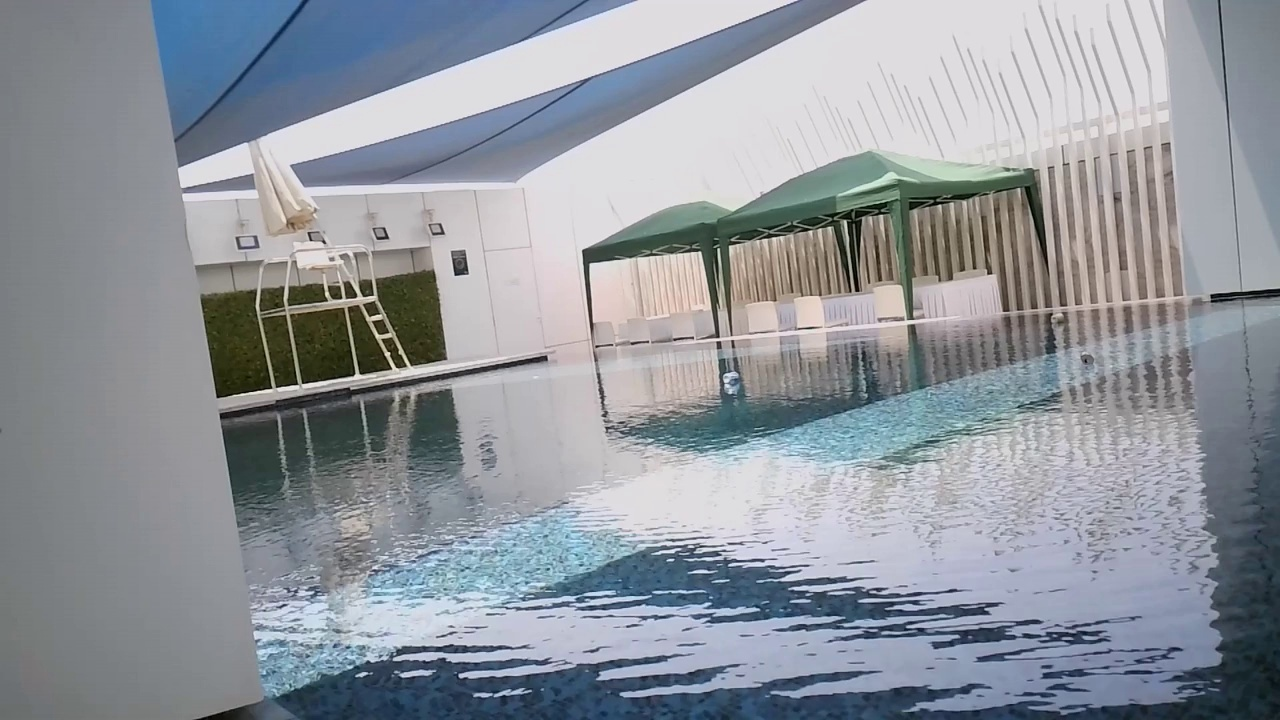debris: (719, 368, 742, 388), (1078, 350, 1097, 370), (1048, 311, 1066, 326)
